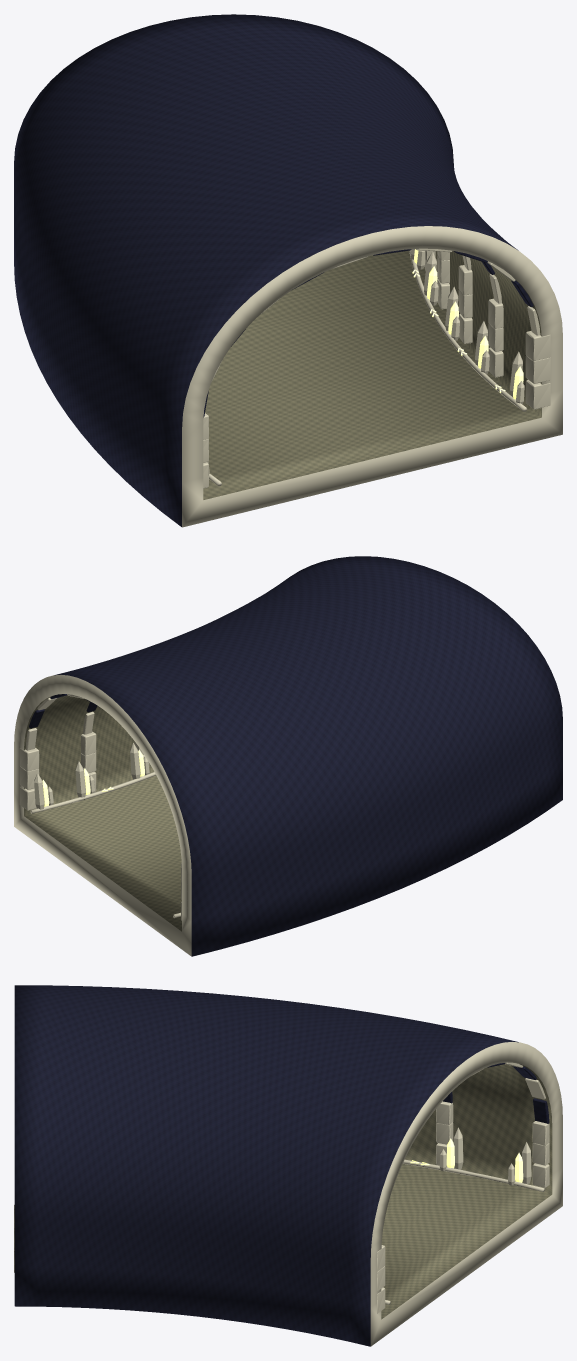
Rendered from curve_right_30_lod1.glb.
3 renders of one model, top to bottom at view 1: azimuth 30°, elevation 25°; view 2: azimuth 150°, elevation 25°; view 3: azimuth 270°, elevation 25°, orthographic. The views are drawn at different scales.
Parts seen in each view (by area): view 1: TunnelGeometry.001; view 2: TunnelGeometry.001; view 3: TunnelGeometry.001.
Part boxes in pixels (x1,y1,x2,y2): TunnelGeometry.001: [14, 14, 562, 527]; TunnelGeometry.001: [14, 556, 562, 956]; TunnelGeometry.001: [14, 985, 562, 1346].
Size of the model in its own units: 19.1 by 9.52 by 21.85.
Materials: 4 (2 with a texture image).
